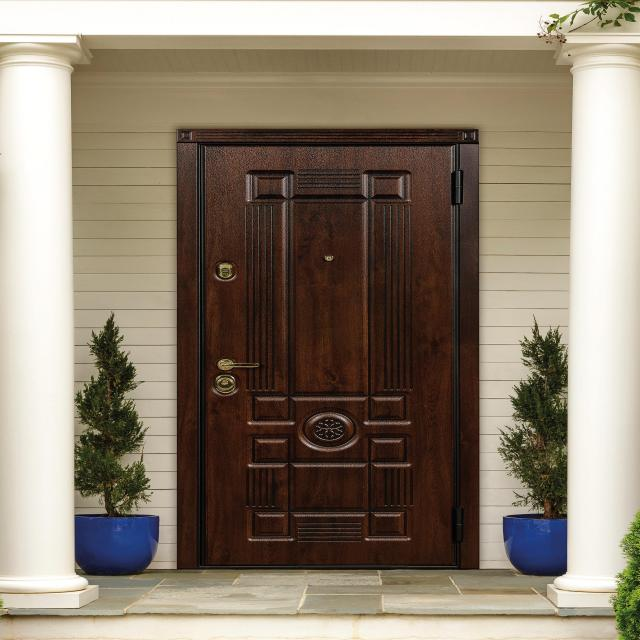close: (175, 133, 472, 563)
